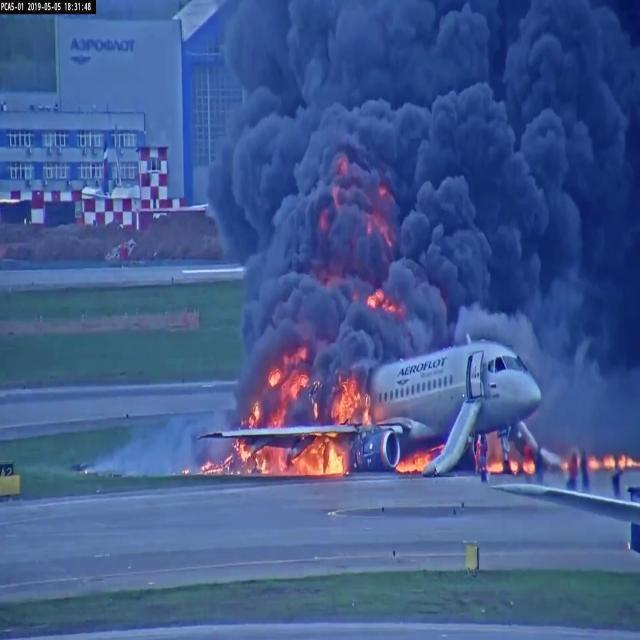Fire: (215, 440, 345, 480)
Smoke: (290, 79, 551, 352)
